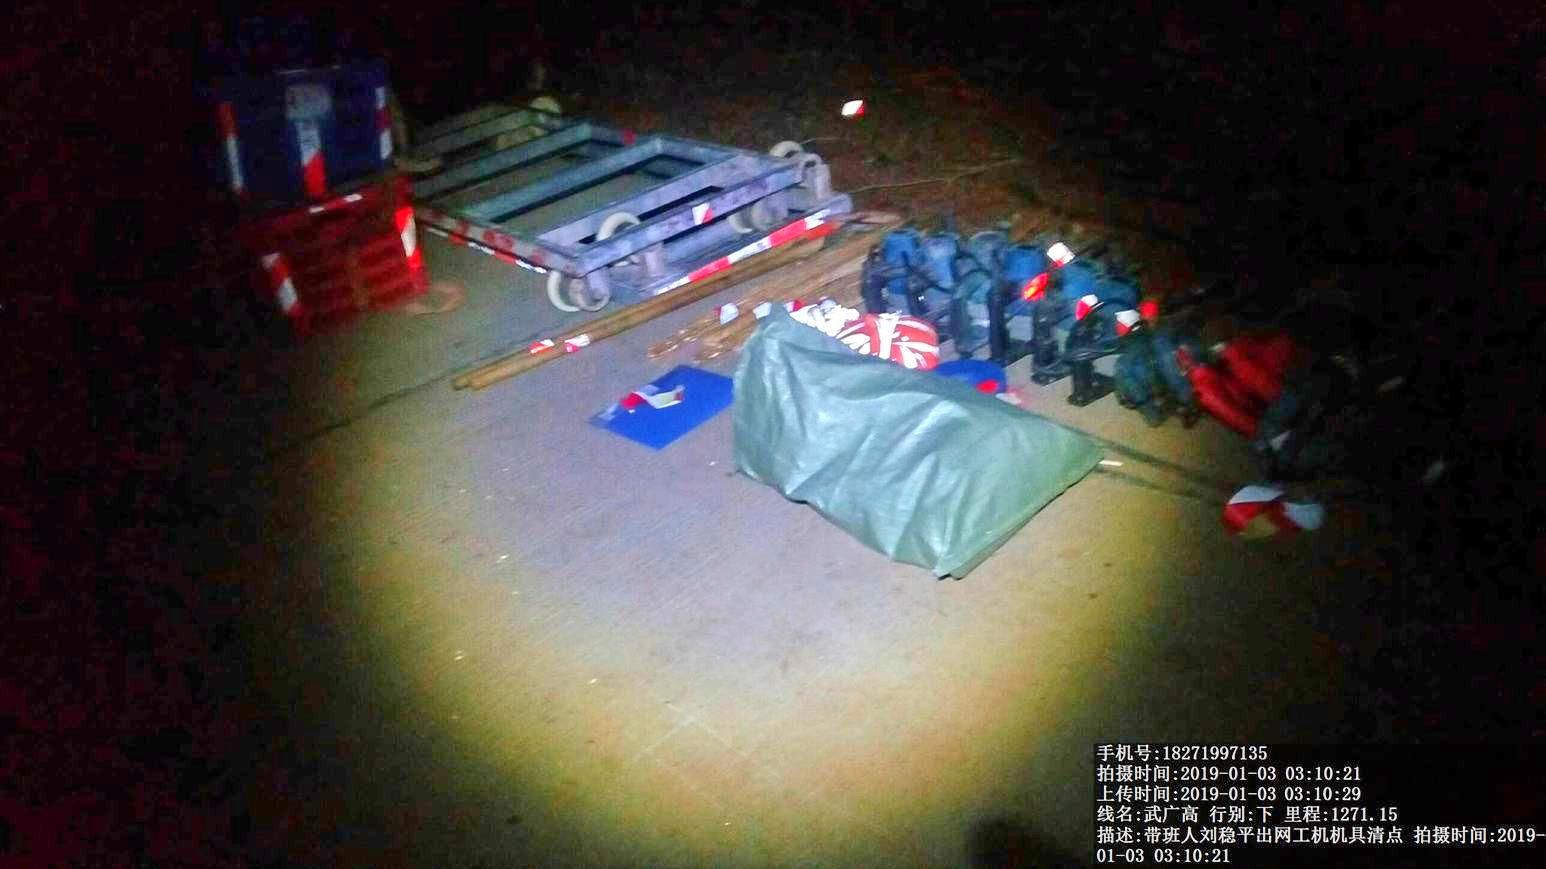BZD: (735, 326, 1106, 579)
